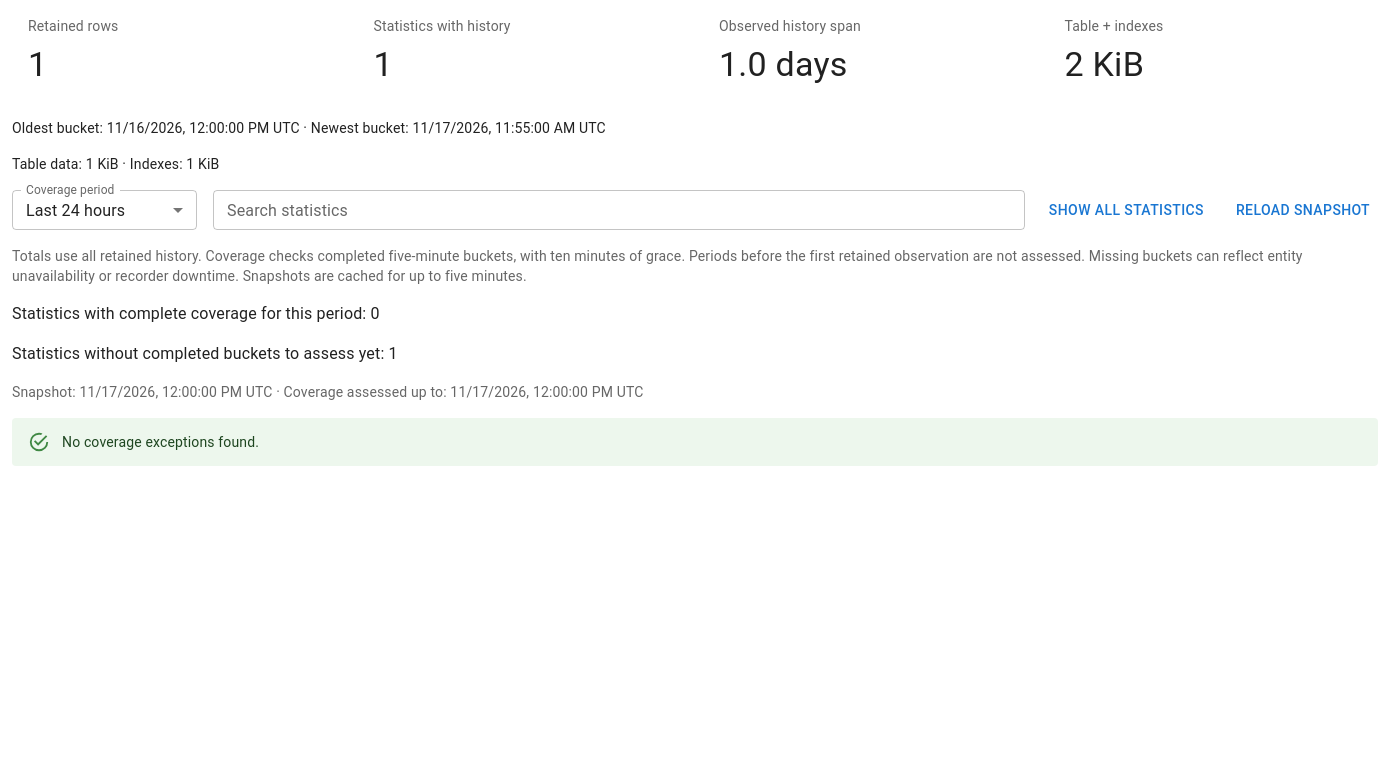
Test: keeps newly compiled statistics neutral until completed buckets can be assessed
Step 1. Click the button "Show all statistics" → click(1126, 210), box top-left (1041, 190), bottom-right (1212, 230)
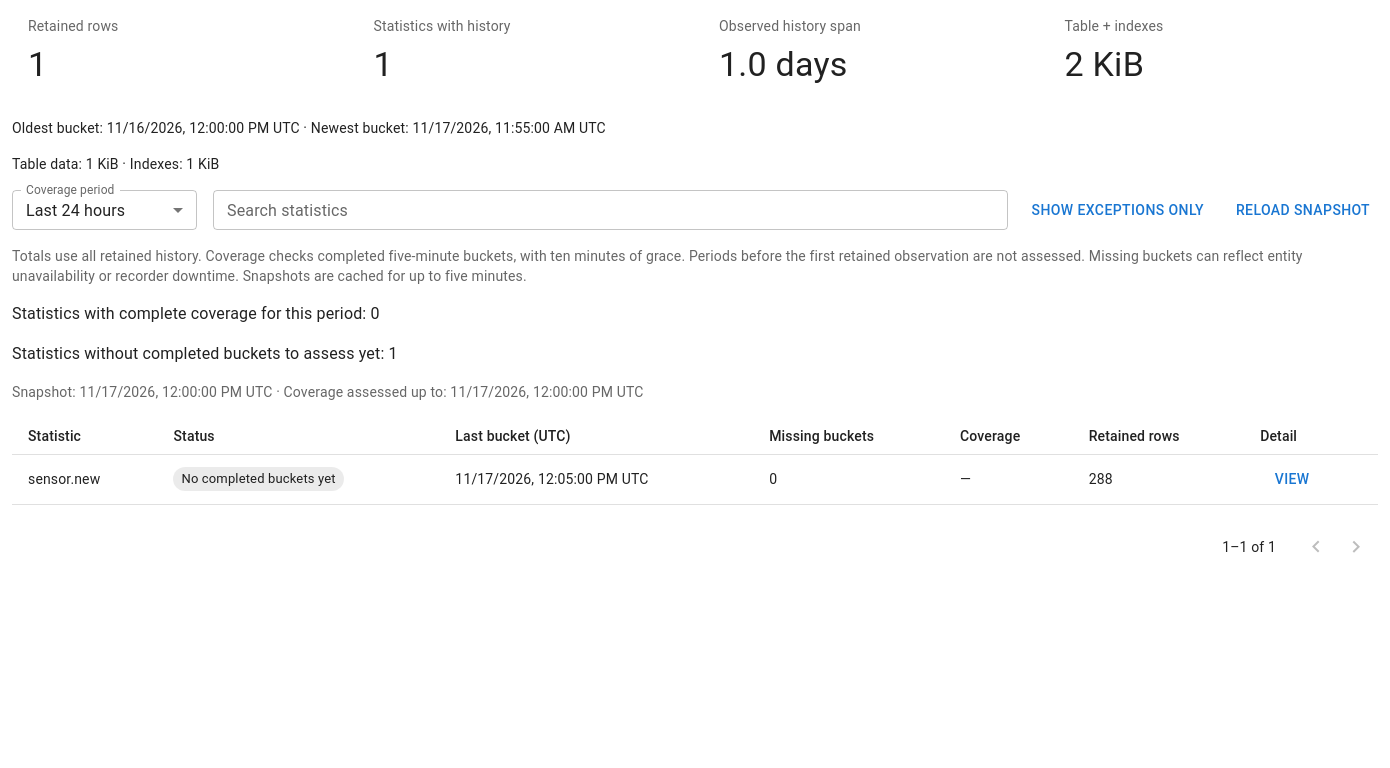
Check: the text "No completed buckets yet" is shown, box top-left (174, 470), bottom-right (344, 489)
